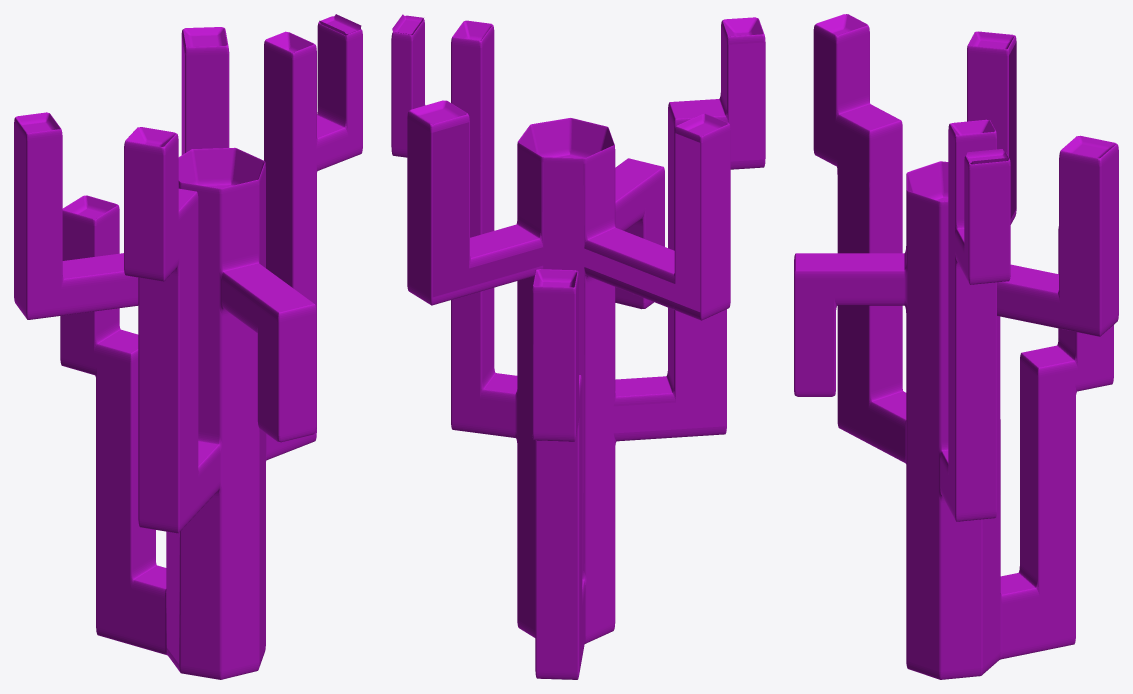
The model's file is dont use missing faces.fbx.
The picture shows the model from 3 angles, left to right: view 1: azimuth 30°, elevation 25°; view 2: azimuth 150°, elevation 25°; view 3: azimuth 270°, elevation 25°; orthographic projection. The views are drawn at different scales.
Visible parts, largest first — view 1: Cylinder; view 2: Cylinder; view 3: Cylinder.
Part boxes in pixels (<box>): Cylinder: <box>14,14,362,679</box>; Cylinder: <box>391,14,765,679</box>; Cylinder: <box>794,14,1118,679</box>.
Bounding box in the file's own units: 381 × 648 × 330.
